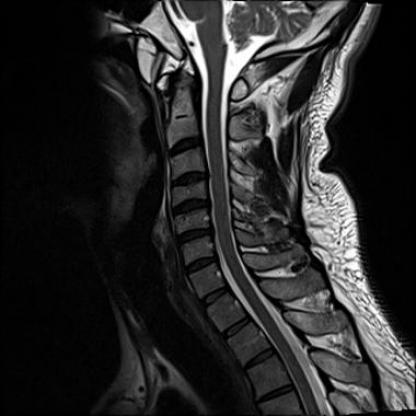Disc Bulgerotation: (173, 198, 213, 216), (169, 137, 204, 156), (171, 171, 211, 187), (173, 227, 213, 243), (184, 256, 218, 272)
Disc Protrusionrotation: (184, 256, 218, 272)
